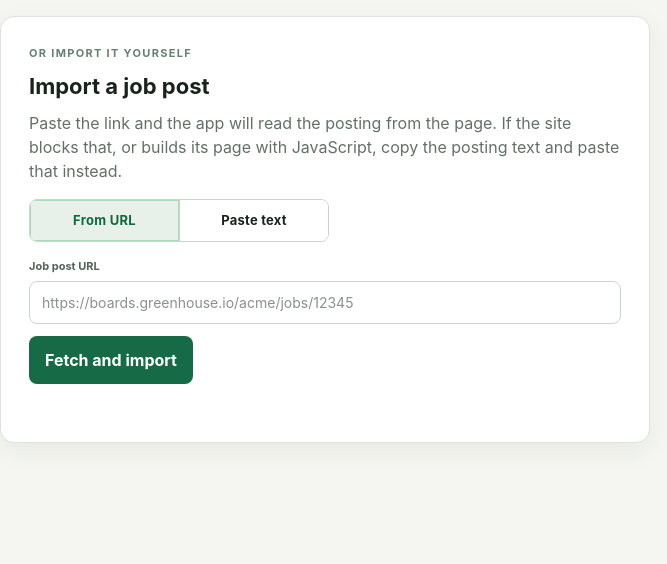
Test: manual job import › shows the backend failure next to the form and re-enables the button
In the field labelled "Job post URL": (325, 302) [29,280,621,324], type "https://jobs.example.com/1"
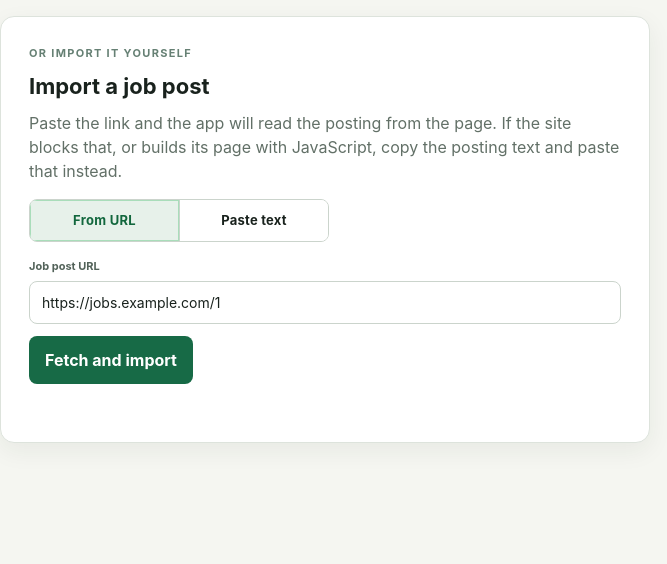
Click the button "Fetch and import": (111, 360) [29,336,193,384]
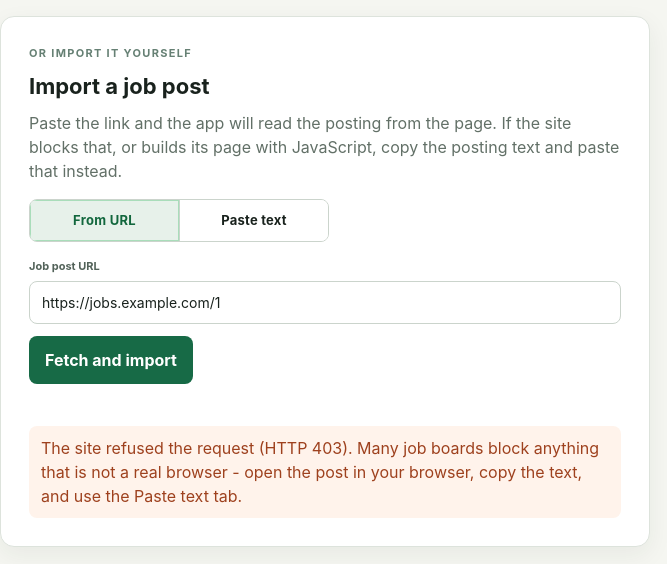
Now the message shows "use the Paste text tab", box [41,438,599,506]
